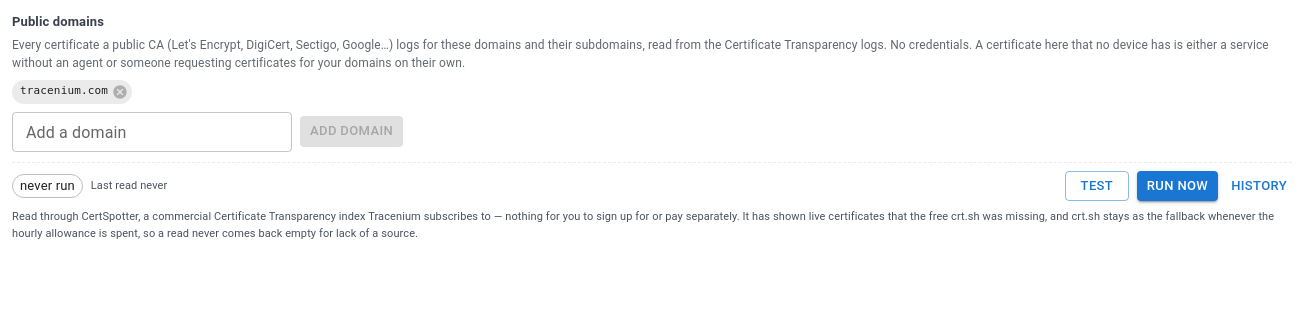
Test case: CdpPublicDomains › «Run now» que termina con avisos los repite en el mensaje
Click the button "Run now".
click(1178, 186)  # box [1137,170,1218,201]
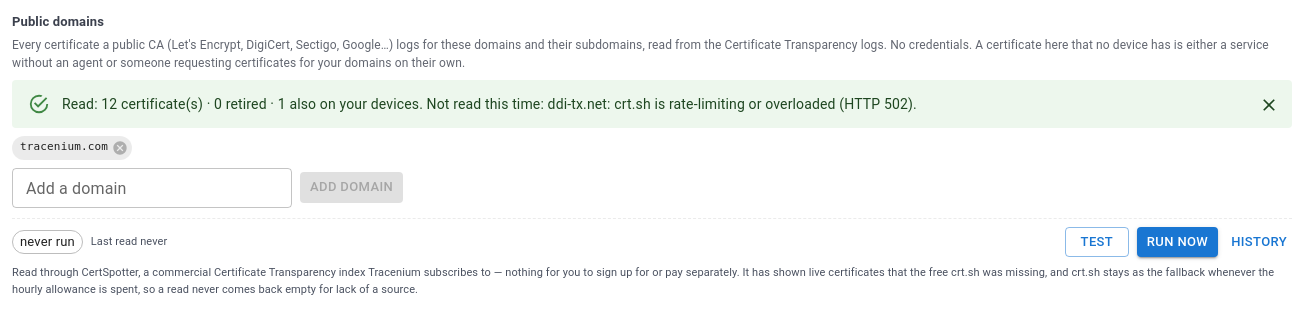
Expected: the text "Not read this time: ddi-tx.net" is shown, [62,96,917,112]
